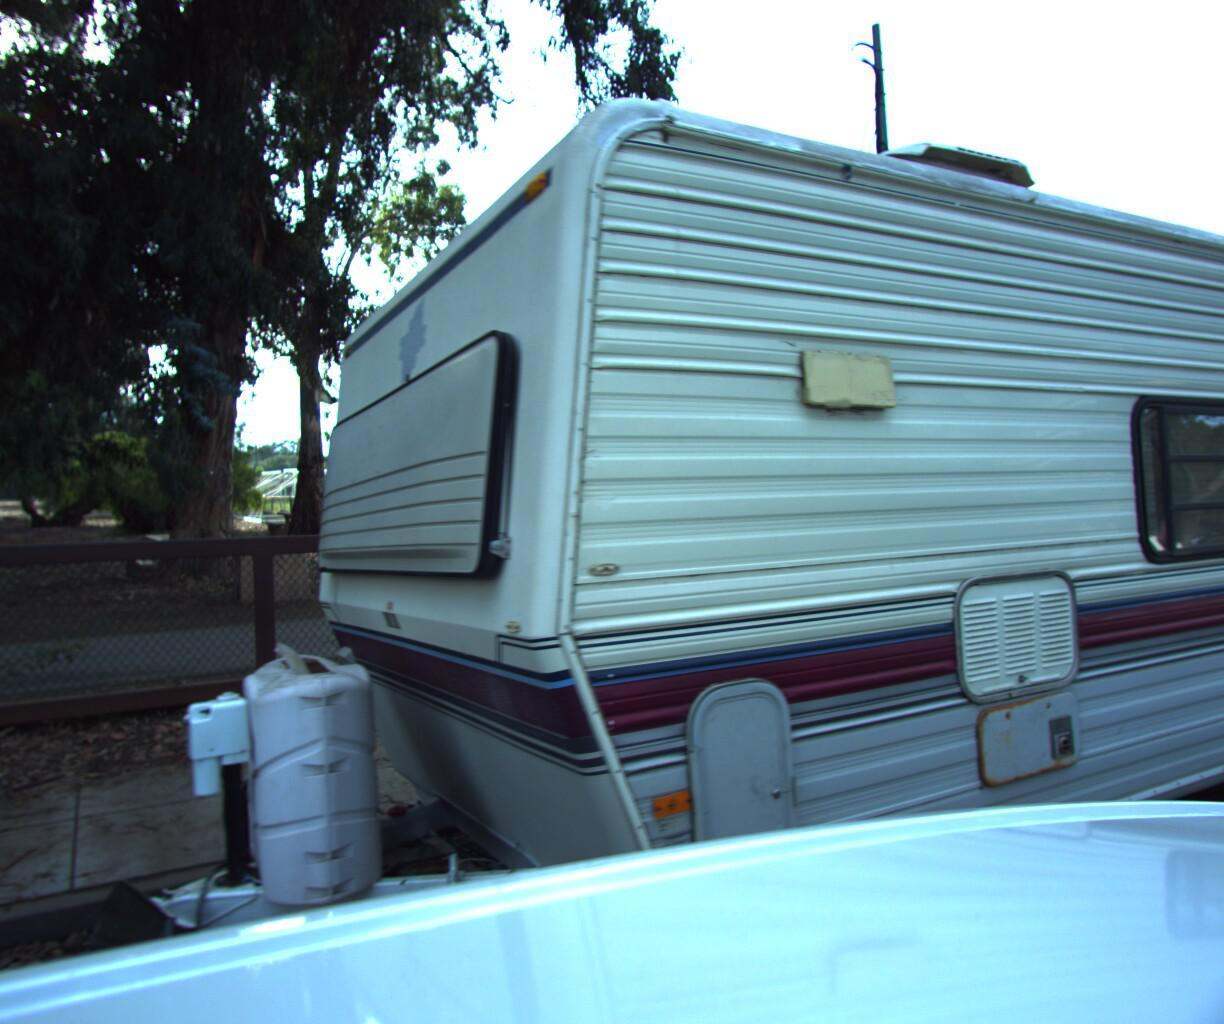other_vehicle: (133, 0, 1224, 1024)
